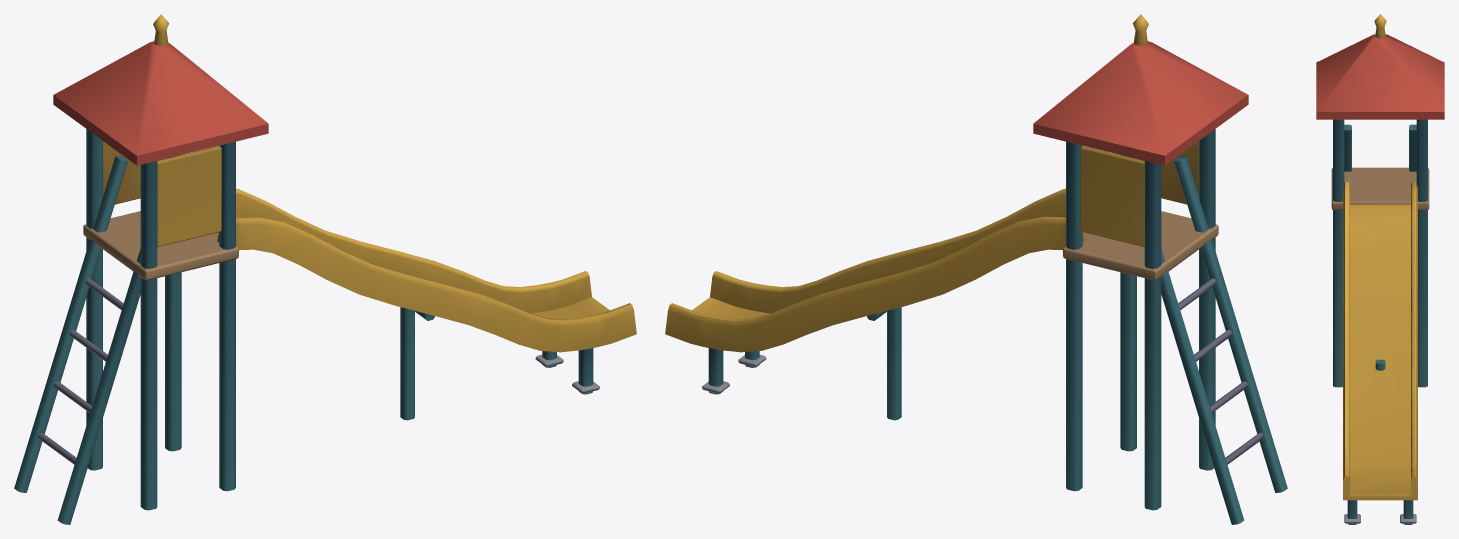
File: Slide.fbx
3 renders of one model, left to right at view 1: azimuth 30°, elevation 25°; view 2: azimuth 150°, elevation 25°; view 3: azimuth 270°, elevation 25°, orthographic. The views are drawn at different scales.
Parts seen in each view (by area): view 1: Slide; view 2: Slide; view 3: Slide.
Boxes of the visible parts, x1,y1,x2,y2 form: Slide: (14, 14, 636, 524); Slide: (665, 14, 1287, 524); Slide: (1316, 14, 1444, 524).
Bounding box in the file's own units: 3.66 × 2.83 × 0.92.
